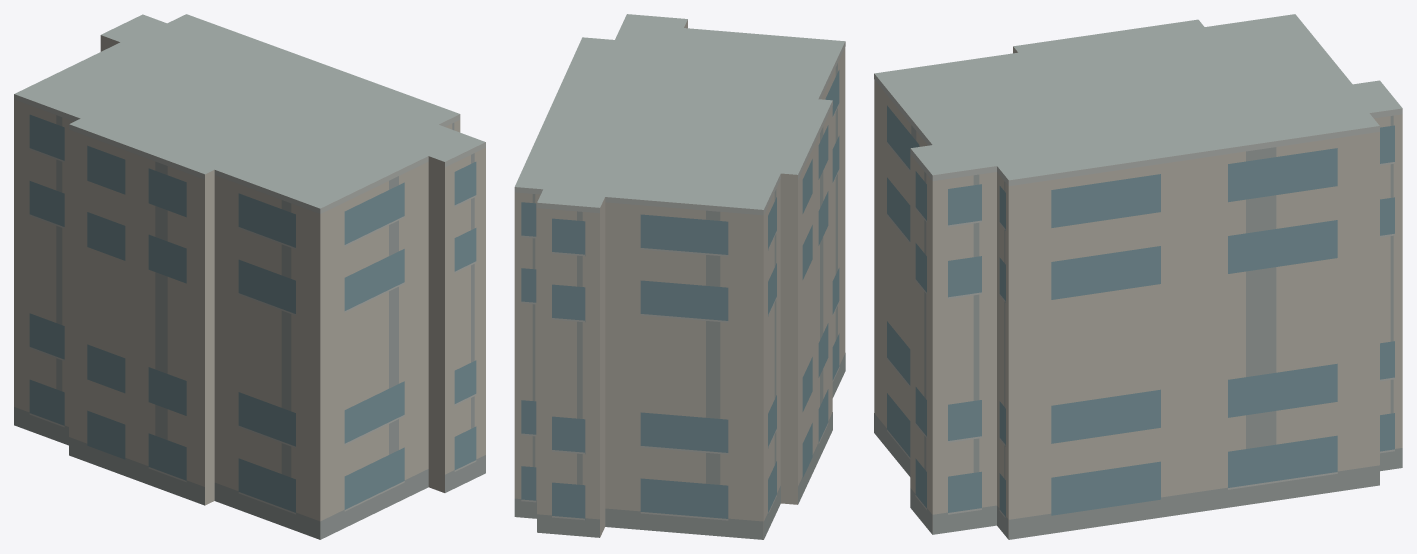
File: survey-upis-32745755.glb
3 views of the same model, side by side, from view 1: azimuth 30°, elevation 25°; view 2: azimuth 150°, elevation 25°; view 3: azimuth 270°, elevation 25° (orthographic). The views are drawn at different scales.
Visible parts, largest first — view 1: survey-upis-32745755.tmp; view 2: survey-upis-32745755.tmp; view 3: survey-upis-32745755.tmp.
Part boxes in pixels (<box>): survey-upis-32745755.tmp: <box>14,14,485,539</box>; survey-upis-32745755.tmp: <box>514,14,845,539</box>; survey-upis-32745755.tmp: <box>874,14,1402,539</box>.
Size of the model in its own units: 14.7 by 14.8 by 19.73.
